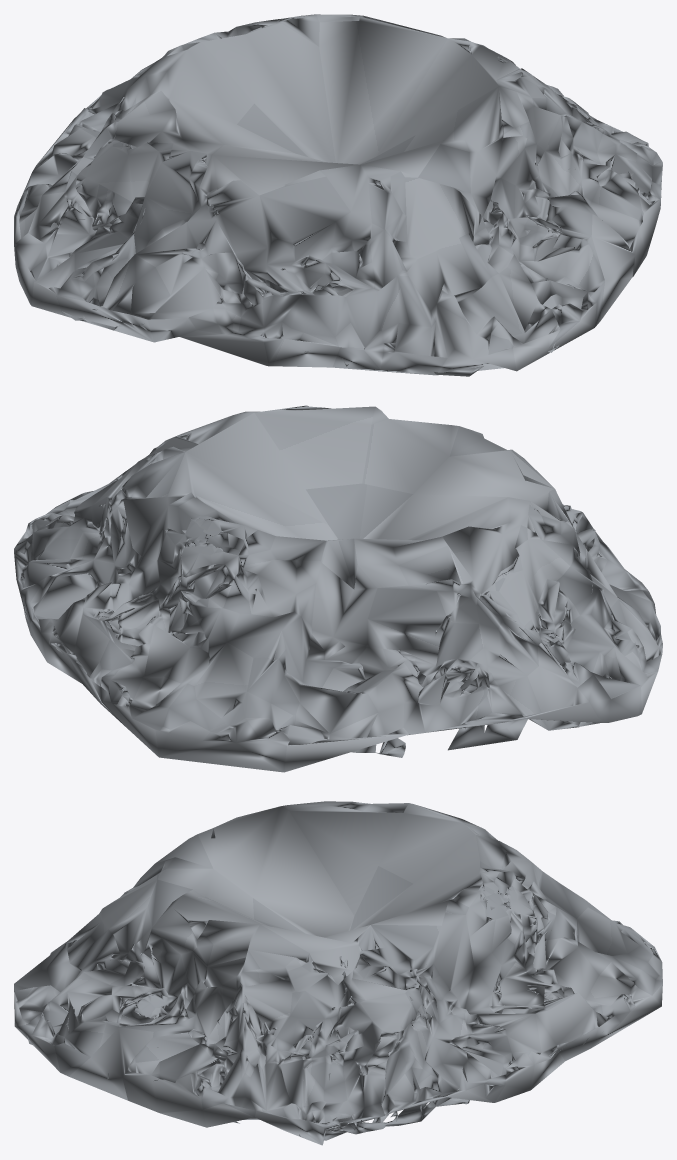
Rendered from cushion-crown.glb.
3 views of the same model, one above another, from view 1: azimuth 30°, elevation 25°; view 2: azimuth 150°, elevation 25°; view 3: azimuth 270°, elevation 25° (orthographic). The views are drawn at different scales.
Parts seen in each view (by area): view 1: tripo_node_27a697a8-4250-49b3-9b13-fe29861856c6; view 2: tripo_node_27a697a8-4250-49b3-9b13-fe29861856c6; view 3: tripo_node_27a697a8-4250-49b3-9b13-fe29861856c6.
Boxes of the visible parts, left/top/right/bottom form: tripo_node_27a697a8-4250-49b3-9b13-fe29861856c6: left=14, top=14, right=662, bottom=376; tripo_node_27a697a8-4250-49b3-9b13-fe29861856c6: left=14, top=405, right=662, bottom=772; tripo_node_27a697a8-4250-49b3-9b13-fe29861856c6: left=14, top=801, right=662, bottom=1145.
Bounding box in the file's own units: 0.9928 × 0.2694 × 0.9799.
1 material, 1 textured.
